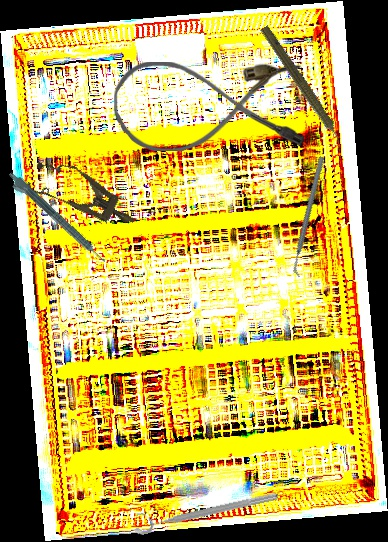Cannula: (114, 62, 304, 151)
Chopper: (253, 155, 366, 279)
Fixation Ring: (130, 480, 280, 537)
Handpiece: (255, 23, 350, 153), (3, 170, 108, 269)
Speculum: (24, 150, 144, 242)
